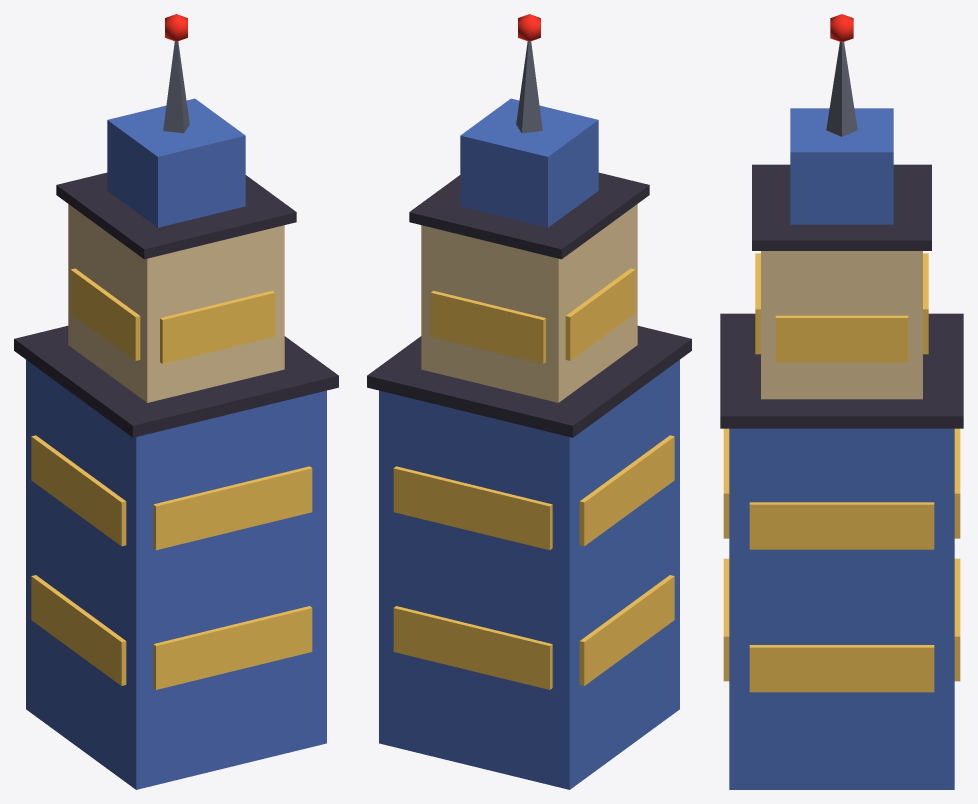
The model's file is ciudad_rascacielos.obj.
3 renders of one model, left to right at view 1: azimuth 30°, elevation 25°; view 2: azimuth 150°, elevation 25°; view 3: azimuth 270°, elevation 25°, orthographic. The views are drawn at different scales.
Visible parts, largest first — view 1: ciudad_rascacielos; view 2: ciudad_rascacielos; view 3: ciudad_rascacielos.
Part boxes in pixels (x1,y1,x2,y2): ciudad_rascacielos: [14, 14, 338, 789]; ciudad_rascacielos: [367, 14, 691, 789]; ciudad_rascacielos: [720, 14, 963, 789].
Bounding box in the file's own units: 1.08 × 3.57 × 1.08.
